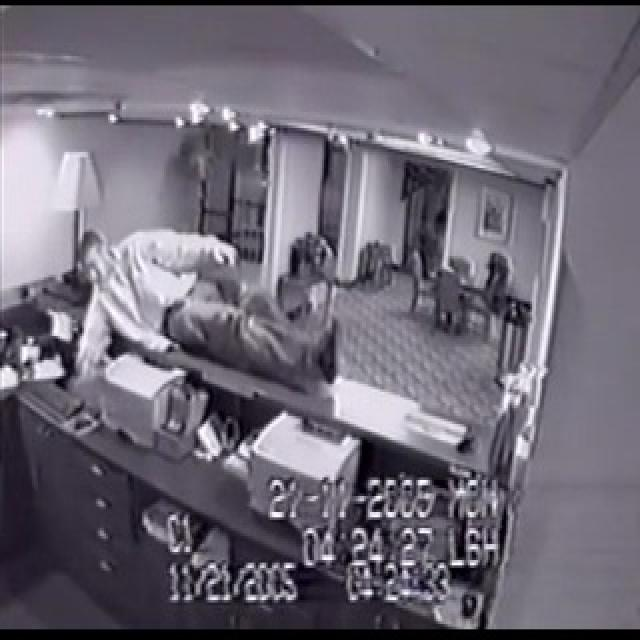thief: (70, 236, 351, 438)
